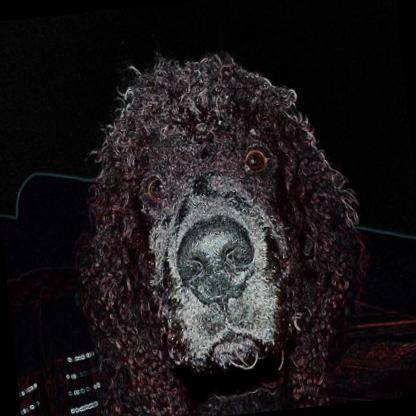Irish_water_spaniel: (61, 41, 374, 416)
